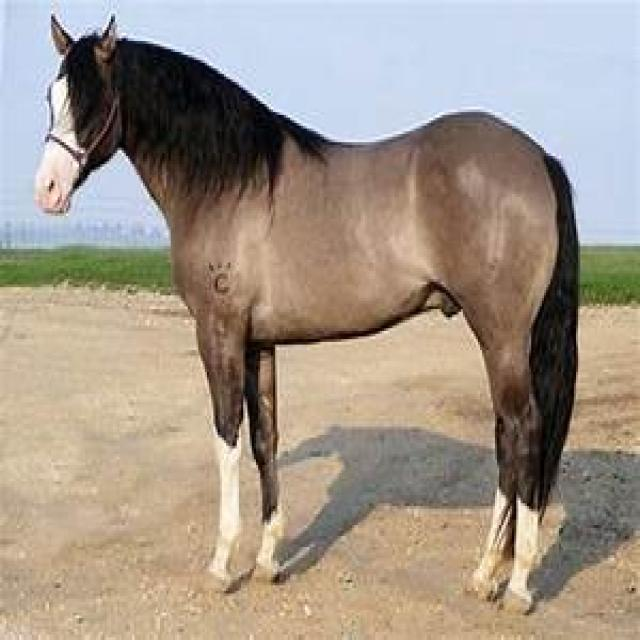horse: (34, 16, 582, 615)
